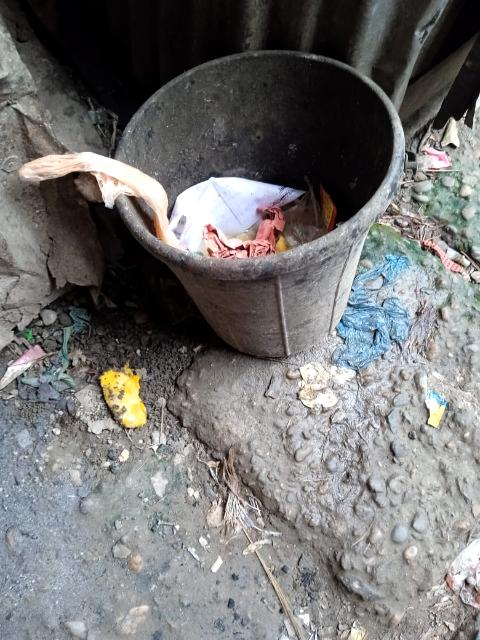hardplastic: (111, 62, 400, 348)
